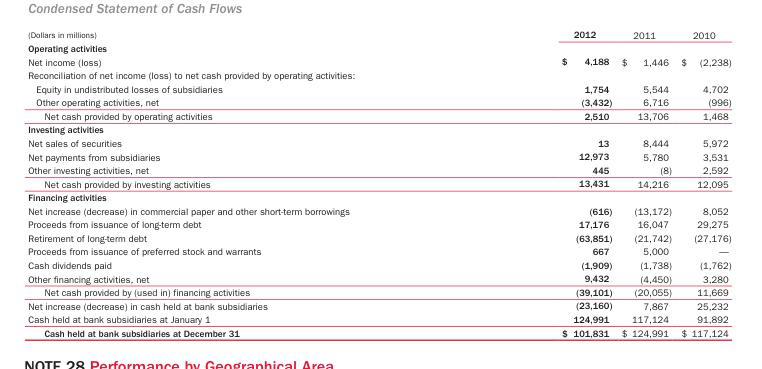table: (27, 28, 730, 338)
table column: (27, 28, 454, 338), (454, 28, 616, 338), (616, 28, 675, 338), (675, 28, 730, 338)
table column header: (27, 28, 730, 40)
table projected row header: (27, 40, 730, 54), (27, 68, 730, 81), (27, 122, 730, 135), (27, 190, 730, 203)
table row: (27, 40, 730, 54), (27, 54, 730, 68), (27, 81, 730, 95), (27, 108, 730, 122), (27, 135, 730, 149), (27, 162, 730, 176), (27, 176, 730, 190), (27, 203, 730, 217), (27, 230, 730, 244), (27, 257, 730, 271), (27, 284, 730, 298), (27, 298, 730, 312), (27, 68, 730, 81), (27, 95, 730, 108), (27, 122, 730, 135), (27, 149, 730, 162), (27, 190, 730, 203), (27, 217, 730, 230), (27, 244, 730, 257), (27, 271, 730, 284), (27, 312, 730, 325), (27, 325, 730, 338), (27, 28, 730, 40)
